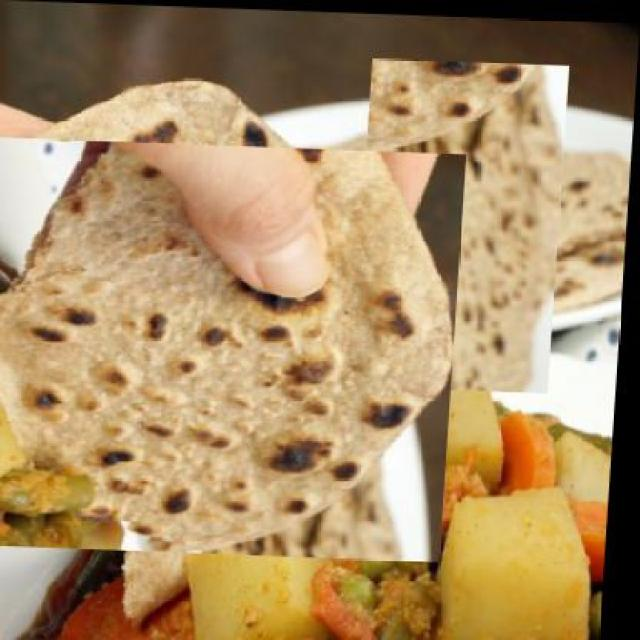chapati: (0, 103, 437, 594), (324, 87, 602, 359)
